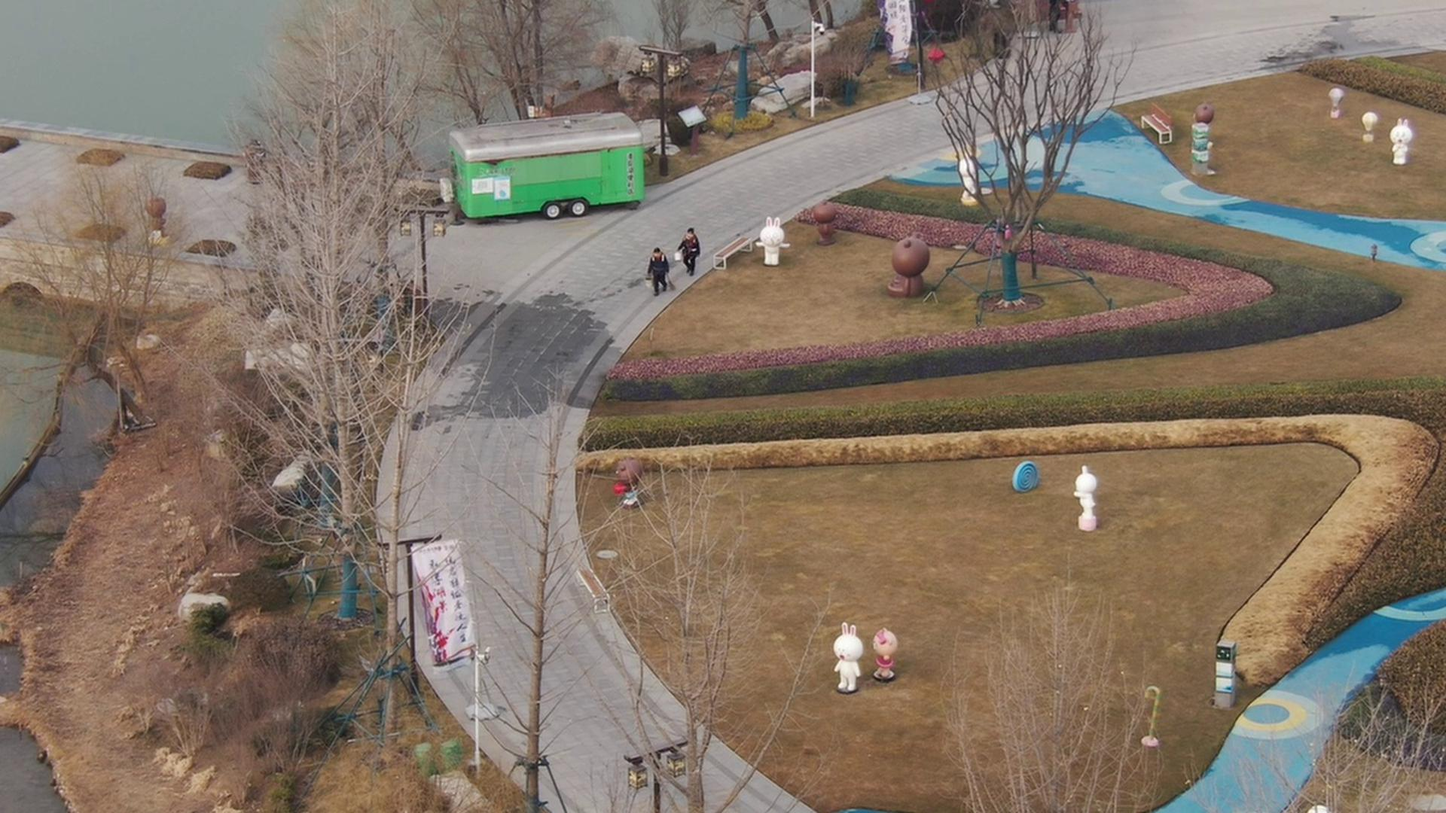human: (675, 225, 703, 274), (641, 244, 666, 293)
